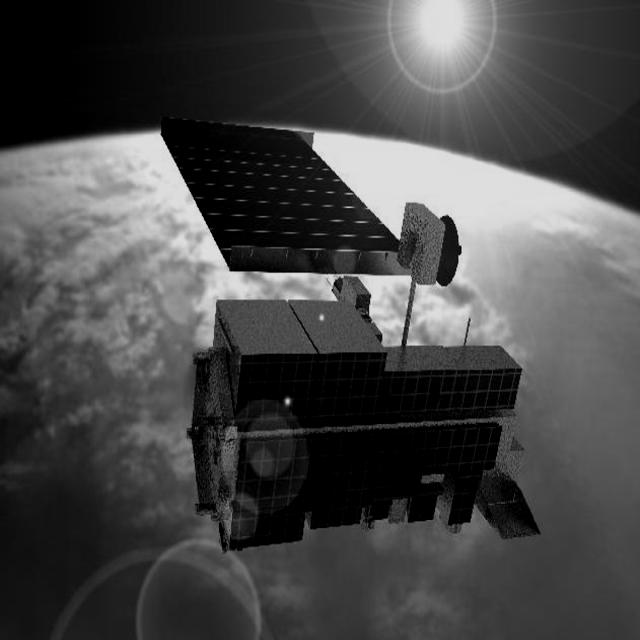satellite: (148, 101, 552, 570)
